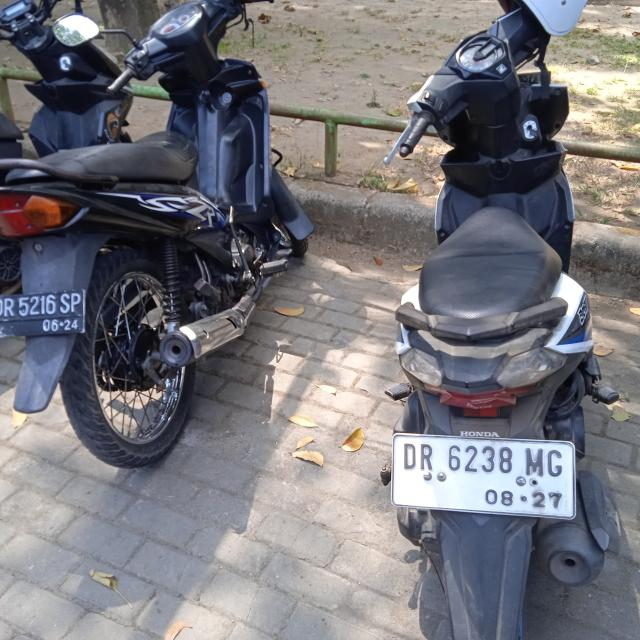plate: (388, 433, 582, 519), (0, 285, 86, 337)
